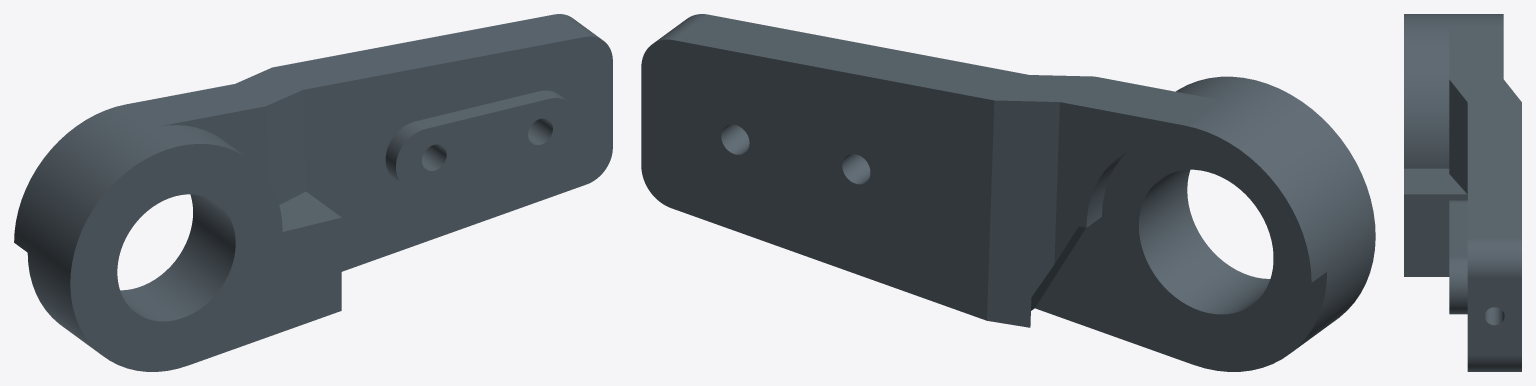
File: dropout_right.glb
The picture shows the model from 3 angles, left to right: view 1: azimuth 30°, elevation 25°; view 2: azimuth 150°, elevation 25°; view 3: azimuth 270°, elevation 25°; orthographic projection. The views are drawn at different scales.
Parts seen in each view (by area): view 1: dropout_right; view 2: dropout_right; view 3: dropout_right.
Part boxes in pixels (bbox=[...]): dropout_right: bbox=[14, 14, 612, 371]; dropout_right: bbox=[641, 14, 1375, 371]; dropout_right: bbox=[1404, 14, 1521, 371].
Bounding box in the file's own units: 98 × 36 × 19.5.
